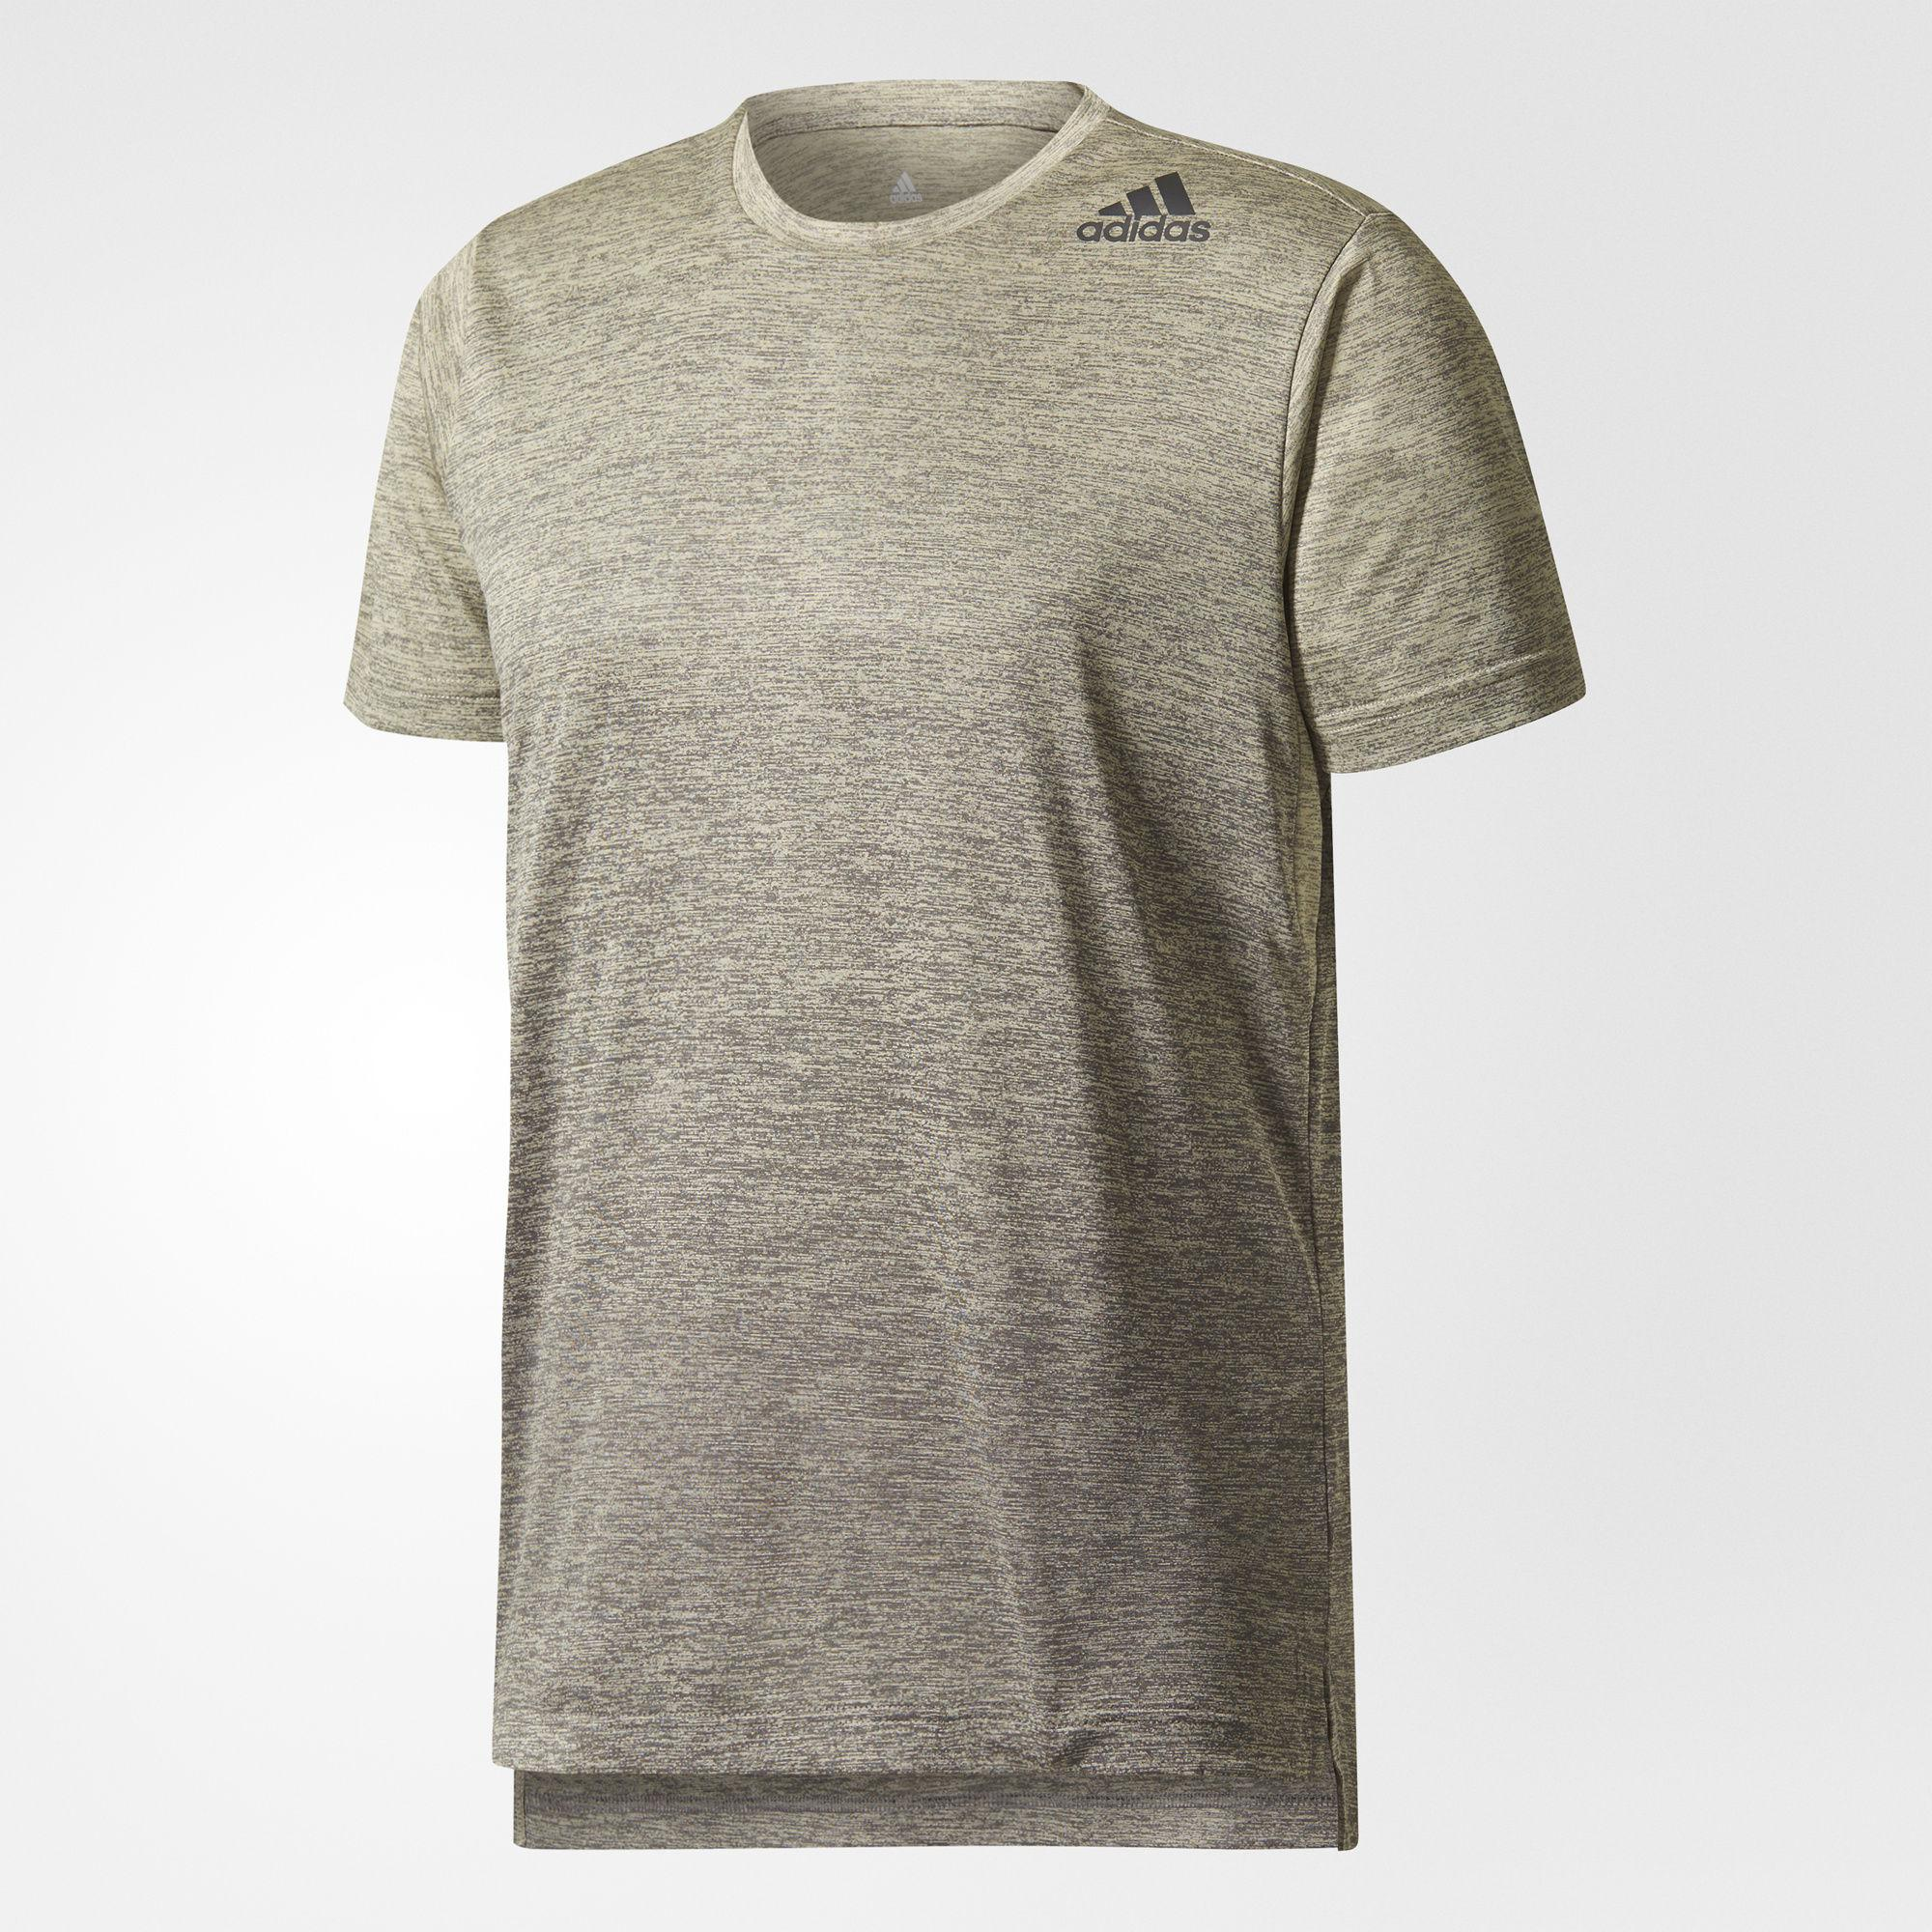teeshirt: (235, 69, 1617, 1884)
